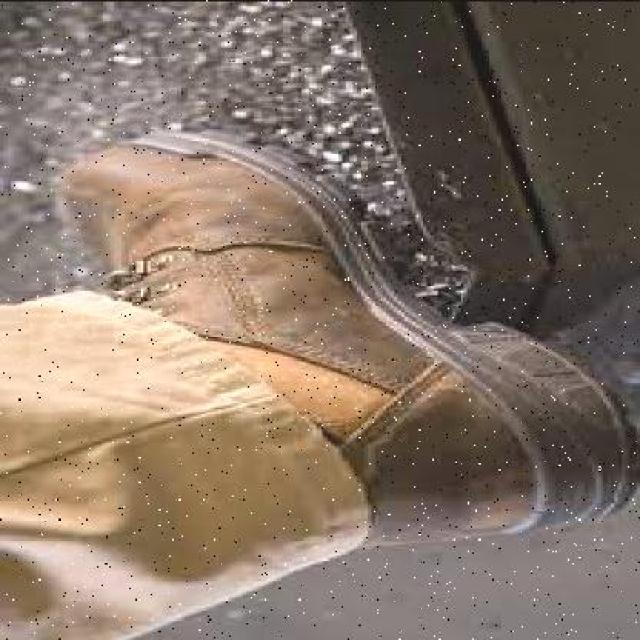shoes: (71, 143, 634, 548)
